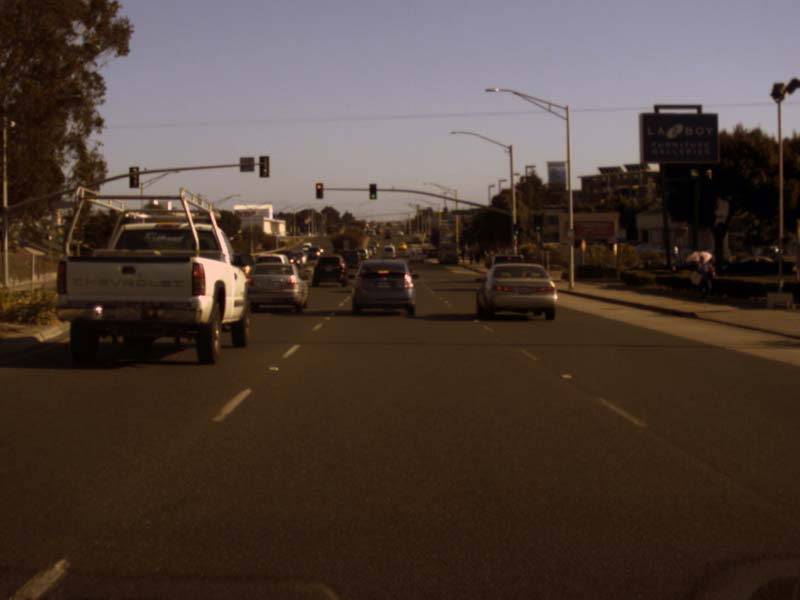Green: (533, 214, 541, 232), (368, 184, 377, 199), (513, 224, 518, 234)
Red: (315, 183, 322, 198)
